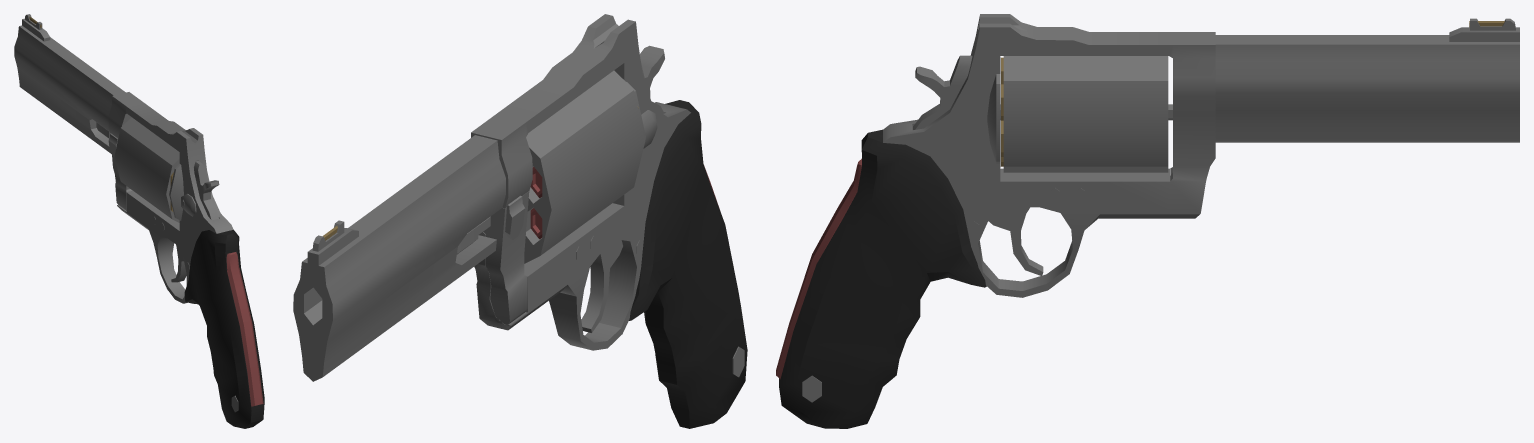
The model's file is gun_judge.glb.
3 views of the same model, side by side, from view 1: azimuth 30°, elevation 25°; view 2: azimuth 150°, elevation 25°; view 3: azimuth 270°, elevation 25° (orthographic). The views are drawn at different scales.
Visible parts, largest first — view 1: body; view 2: body; view 3: body.
Boxes of the visible parts, left/top/right/bottom form: body: left=14, top=14, right=264, bottom=428; body: left=293, top=14, right=747, bottom=428; body: left=776, top=14, right=1519, bottom=428.
Bounding box in the file's own units: 0.1043 × 0.5963 × 1.
